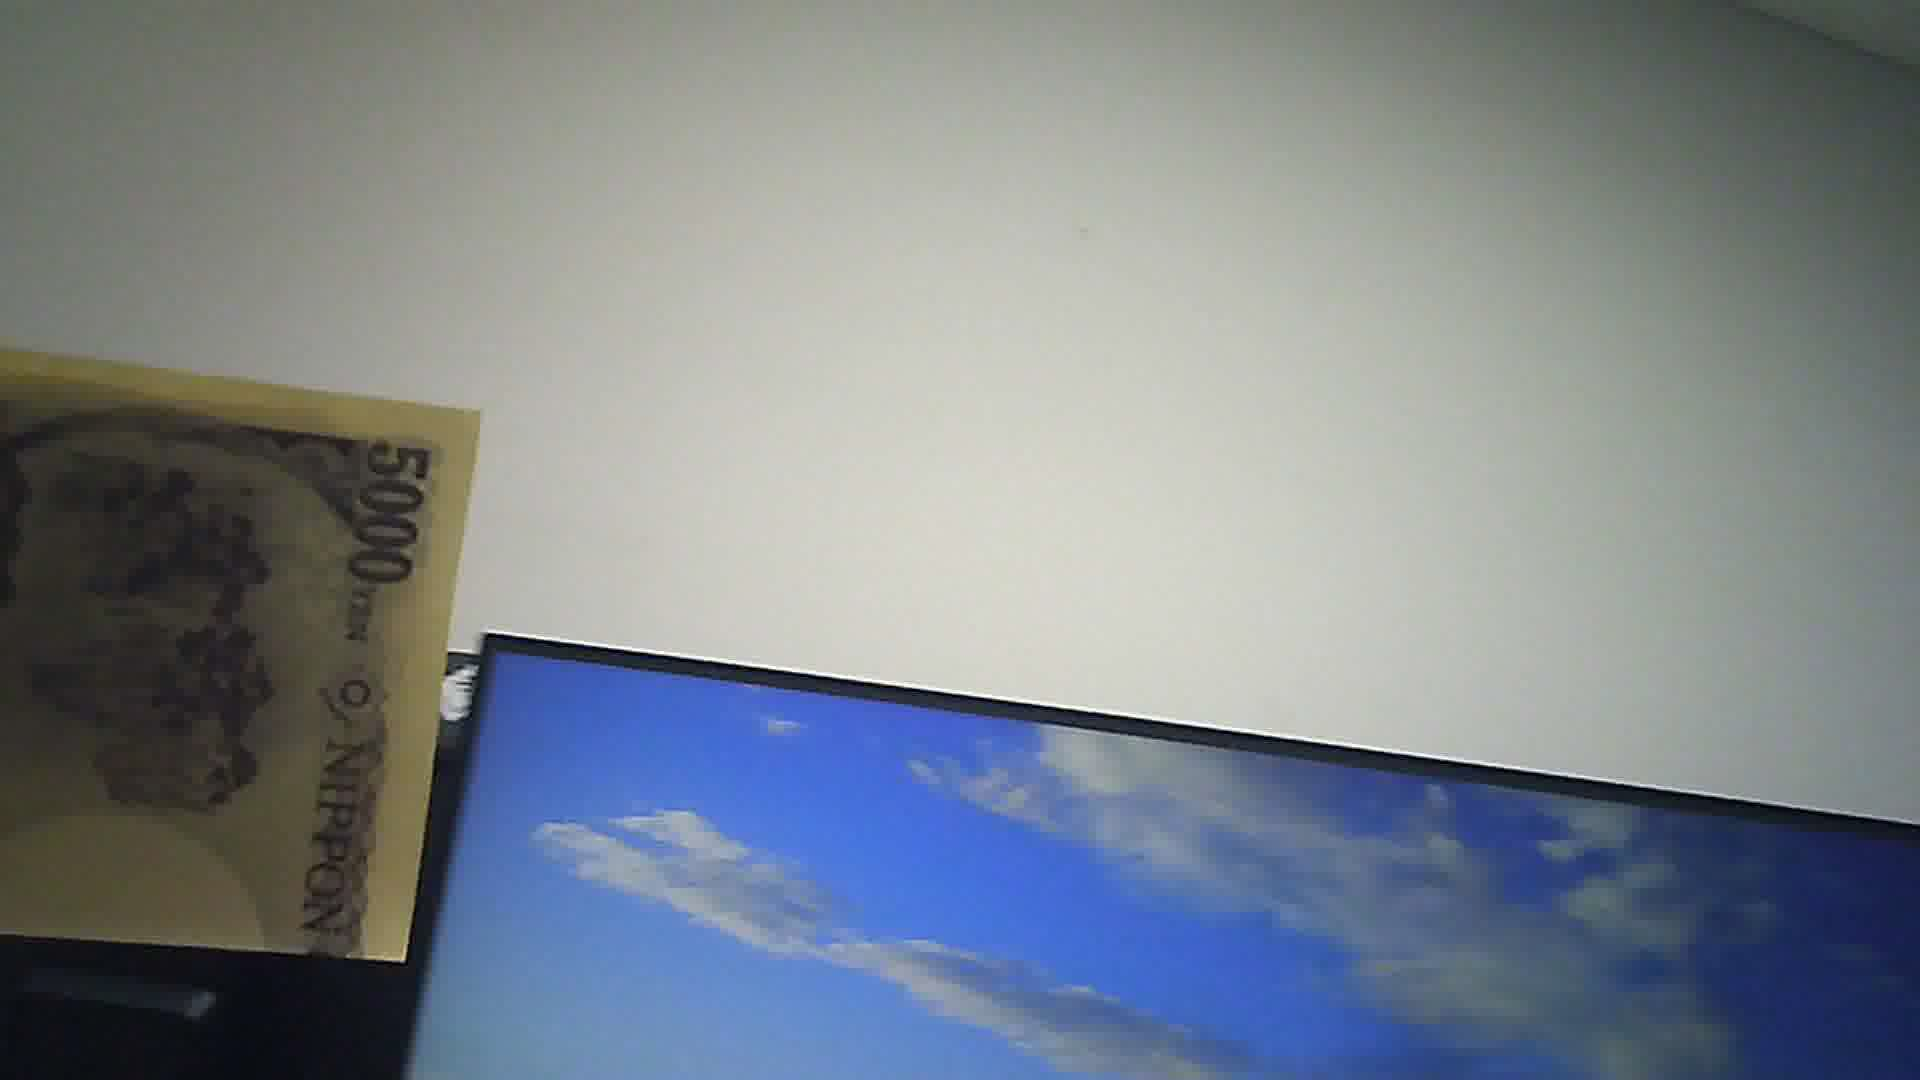5,000 Yen: (7, 338, 477, 971)
